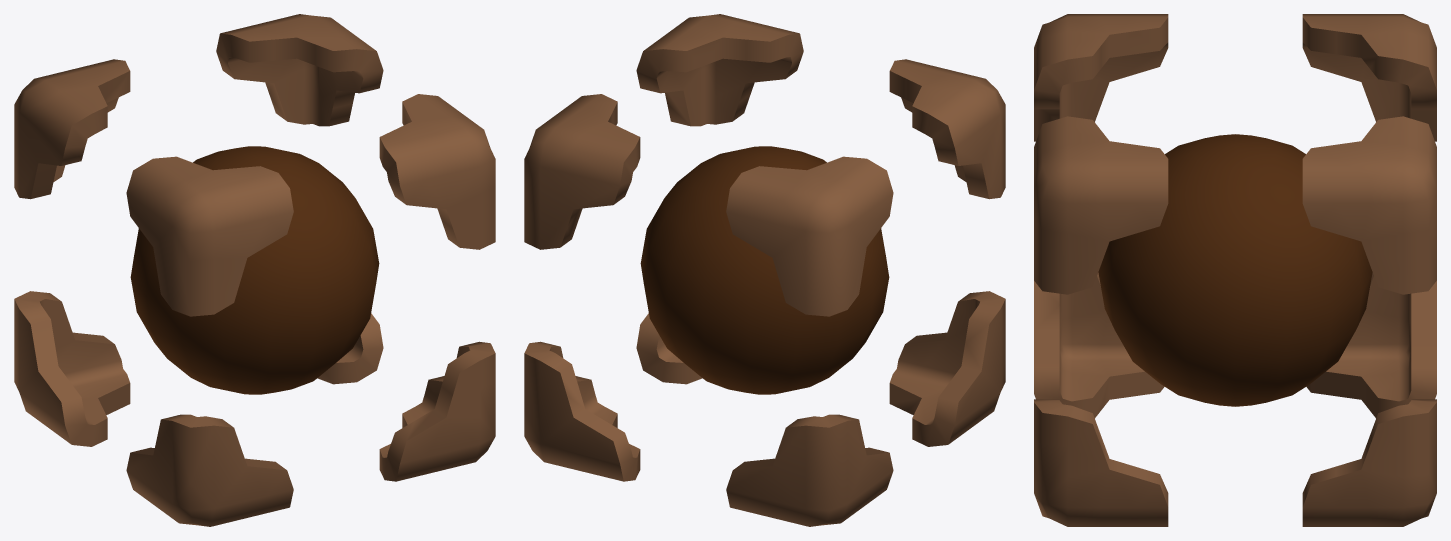
The model's file is quaternius-ultimate-space-pickup-sphere-transformed.glb.
The picture shows the model from 3 angles, left to right: view 1: azimuth 30°, elevation 25°; view 2: azimuth 150°, elevation 25°; view 3: azimuth 270°, elevation 25°; orthographic projection. The views are drawn at different scales.
Parts seen in each view (by area): view 1: Pickup_Sphere; view 2: Pickup_Sphere; view 3: Pickup_Sphere.
Part boxes in pixels (x1,y1,x2,y2): Pickup_Sphere: (14, 14, 495, 526); Pickup_Sphere: (524, 14, 1005, 526); Pickup_Sphere: (1034, 14, 1436, 526).
Bounding box in the file's own units: 0.8856 × 0.8856 × 0.8856.
Materials: 1 (1 with a texture image).
